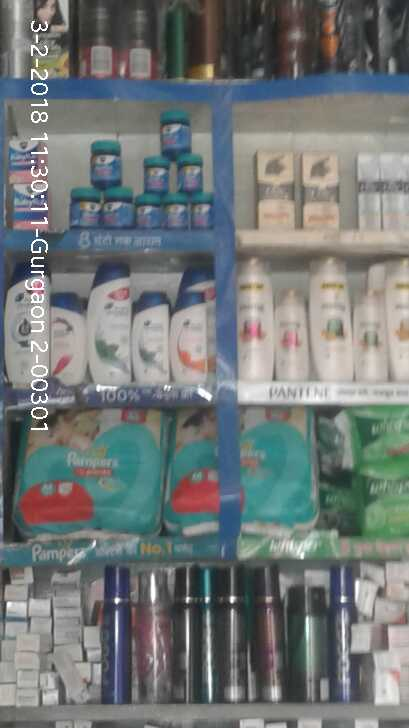vicks: (8, 105, 220, 230)
